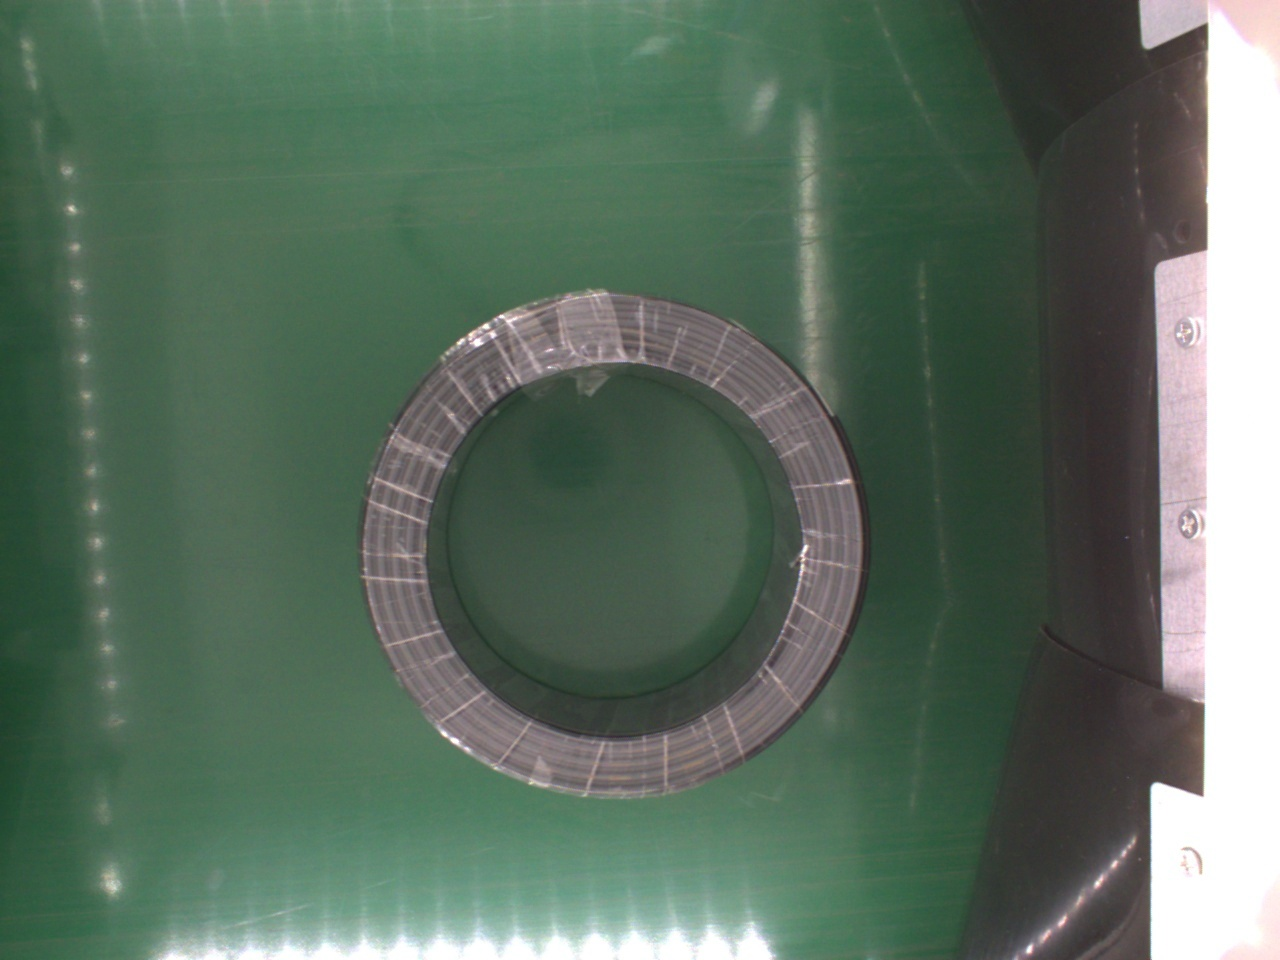black: (358, 290, 864, 801)
